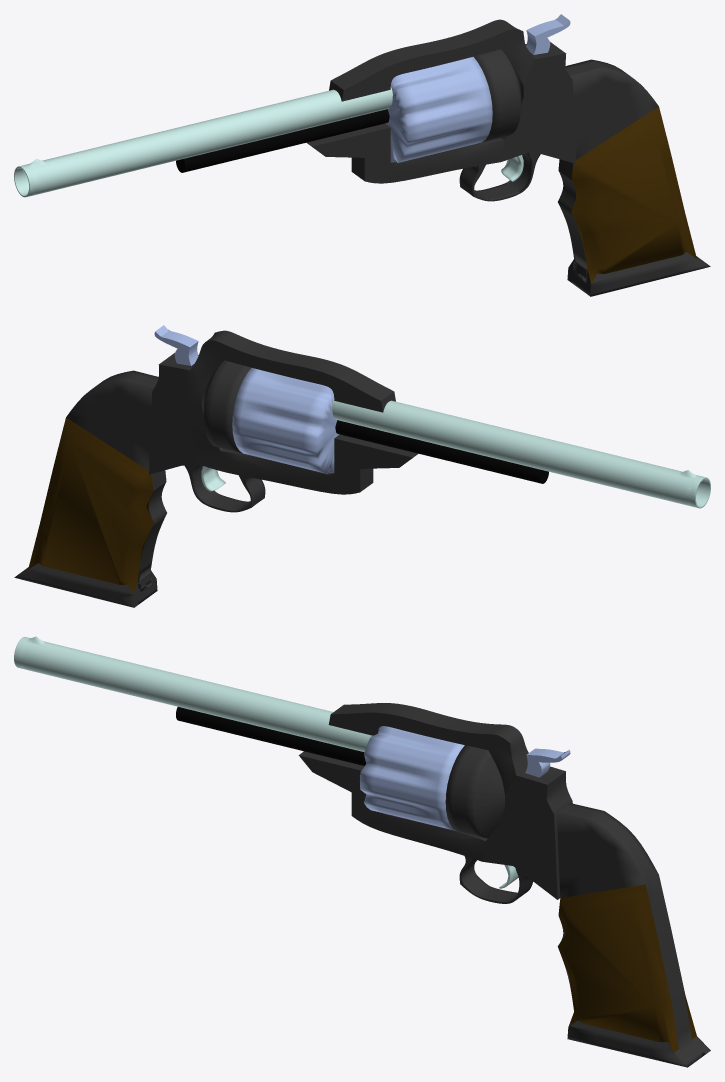
File: hand cannon.fbx
3 views of the same model, one above another, from view 1: azimuth 30°, elevation 25°; view 2: azimuth 150°, elevation 25°; view 3: azimuth 330°, elevation 25° (orthographic).
Visible parts, largest first — view 1: skeleton, handle wrap, barrel, skeleton handle, cylinder, underbarrel, cylinder back, trigger guard, hammer; view 2: skeleton, handle wrap, barrel, skeleton handle, cylinder, underbarrel, cylinder back, trigger guard, hammer; view 3: skeleton, handle wrap, skeleton handle, barrel, cylinder, cylinder back, underbarrel, trigger guard, hammer.
Part boxes in pixels (bbox=[...]): skeleton: bbox=[306, 19, 576, 183]; handle wrap: bbox=[571, 106, 696, 284]; barrel: bbox=[14, 87, 392, 197]; skeleton handle: bbox=[558, 59, 710, 296]; cylinder: bbox=[385, 56, 492, 162]; underbarrel: bbox=[176, 109, 389, 172]; cylinder back: bbox=[474, 49, 521, 142]; trigger guard: bbox=[459, 151, 540, 201]; hammer: bbox=[526, 14, 570, 54]; skeleton: bbox=[149, 330, 418, 494]; handle wrap: bbox=[28, 417, 153, 595]; barrel: bbox=[332, 398, 710, 508]; skeleton handle: bbox=[14, 370, 166, 607]; cylinder: bbox=[232, 367, 339, 473]; underbarrel: bbox=[335, 420, 548, 483]; cylinder back: bbox=[203, 360, 250, 453]; trigger guard: bbox=[184, 465, 265, 512]; hammer: bbox=[154, 325, 198, 365]; skeleton: bbox=[298, 703, 572, 899]; handle wrap: bbox=[557, 884, 696, 1052]; skeleton handle: bbox=[557, 803, 710, 1067]; barrel: bbox=[14, 636, 372, 752]; cylinder: bbox=[359, 726, 464, 830]; cylinder back: bbox=[445, 745, 504, 838]; underbarrel: bbox=[176, 707, 366, 765]; trigger guard: bbox=[459, 856, 533, 903]; hammer: bbox=[525, 748, 570, 777].
Size of the model in its own units: 2899 by 1153 by 360.
